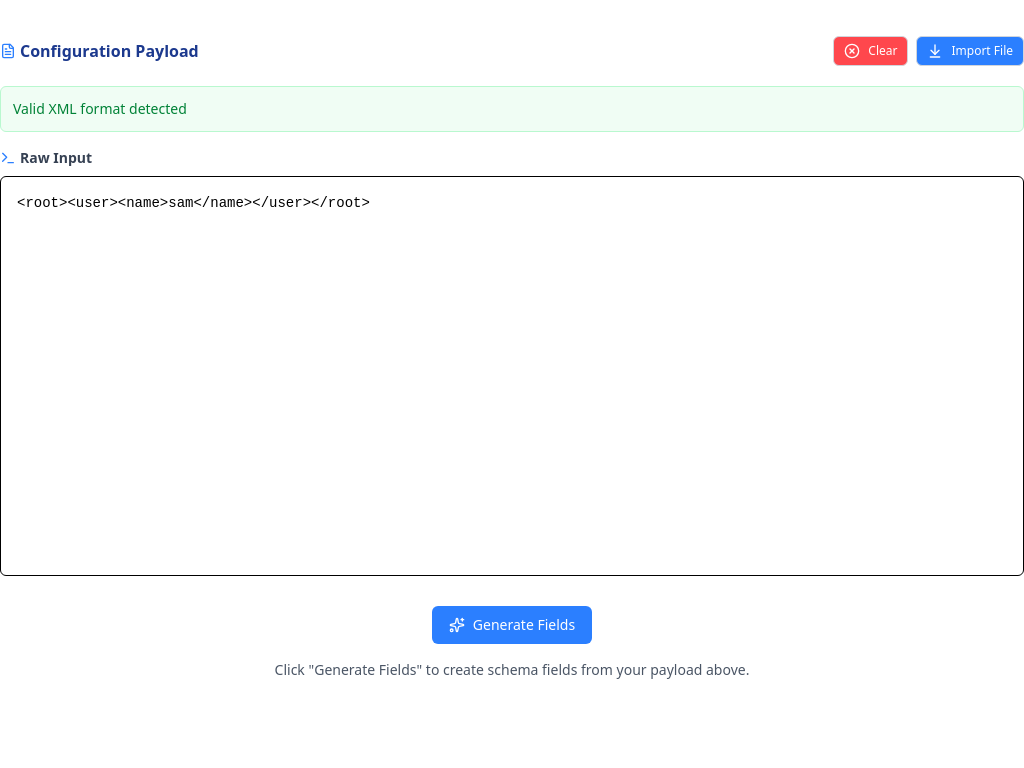
Test: shared/components/PayloadEditor.tsx › generates fields from valid XML payload
(page scrolled)
Step 1. Click the button "Generate Fields" → (512, 625), box [432,606,592,644]
(page scrolled)
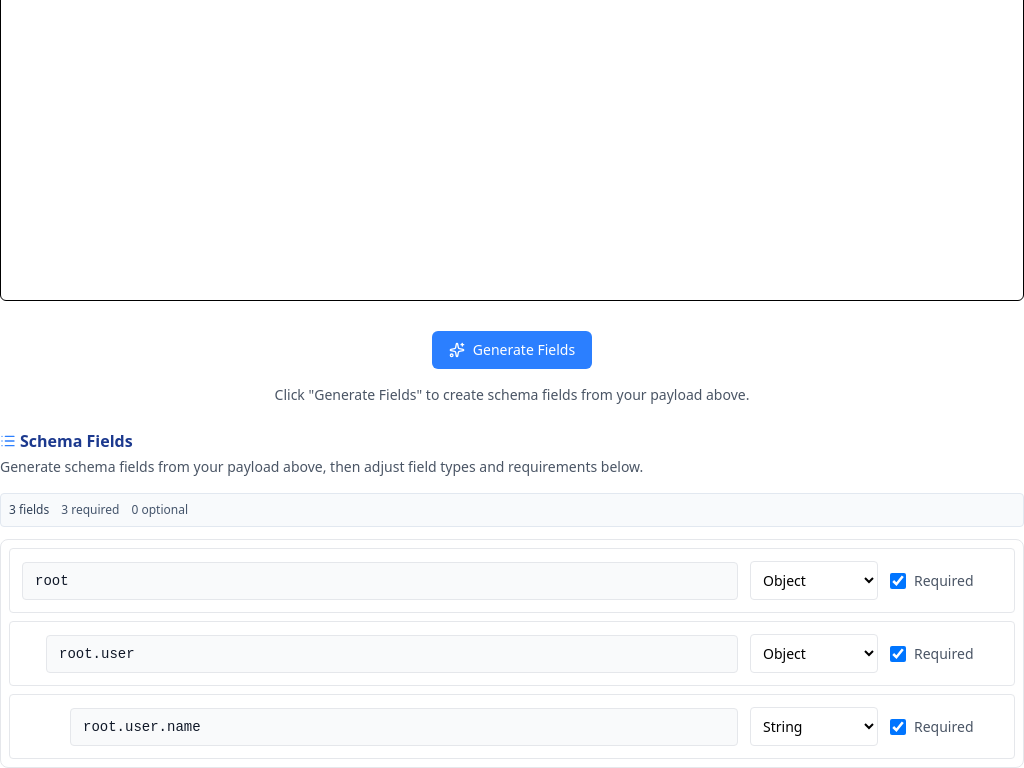
Expected: the text "3 fields" is shown, [9,502,49,518]
